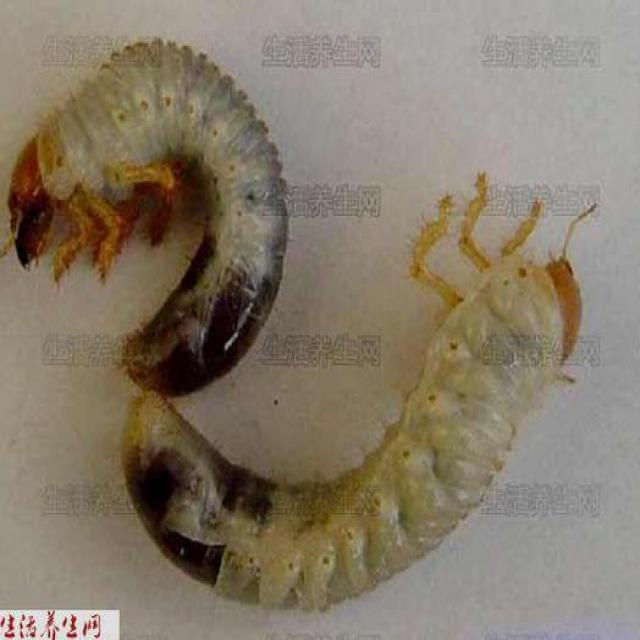Grub-Adult-: (126, 197, 596, 615), (3, 27, 280, 399)
